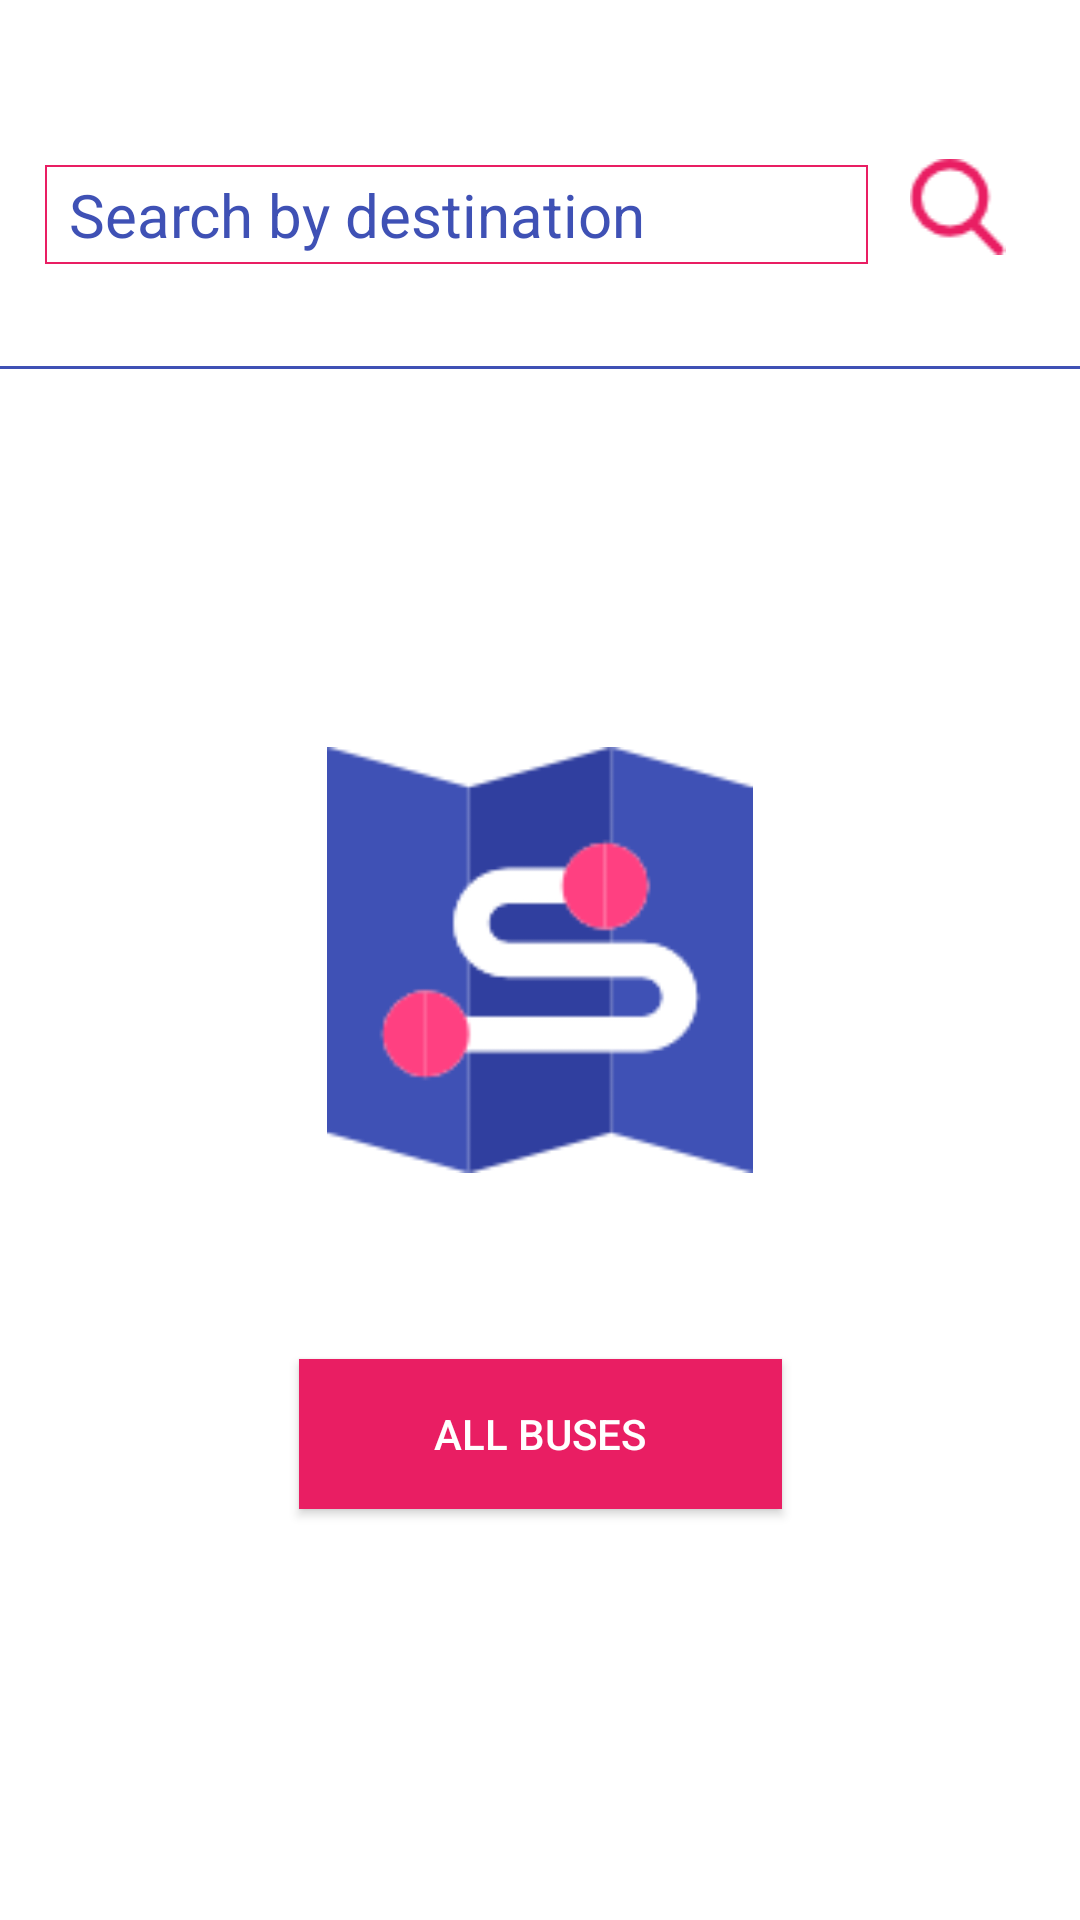

Named icons in this screenshot (1080px×1920px) and their centers, (x,y):
pnk search: (958,207)
